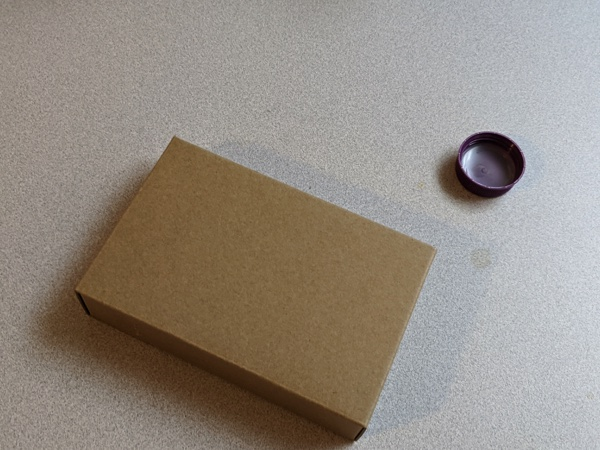cardboard: (73, 122, 439, 450)
